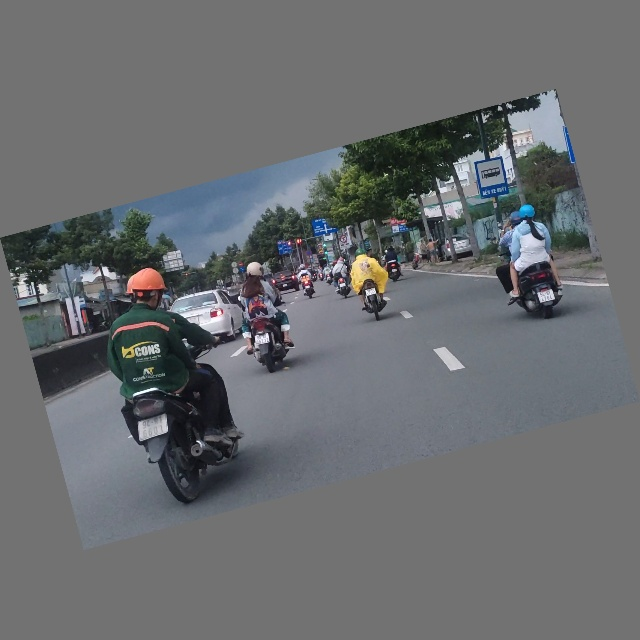I.434a: (473, 155, 510, 201)
P.137: (339, 235, 348, 244)
R.415a: (277, 242, 293, 256)
